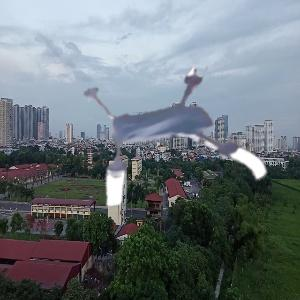drone: (81, 52, 254, 225)
